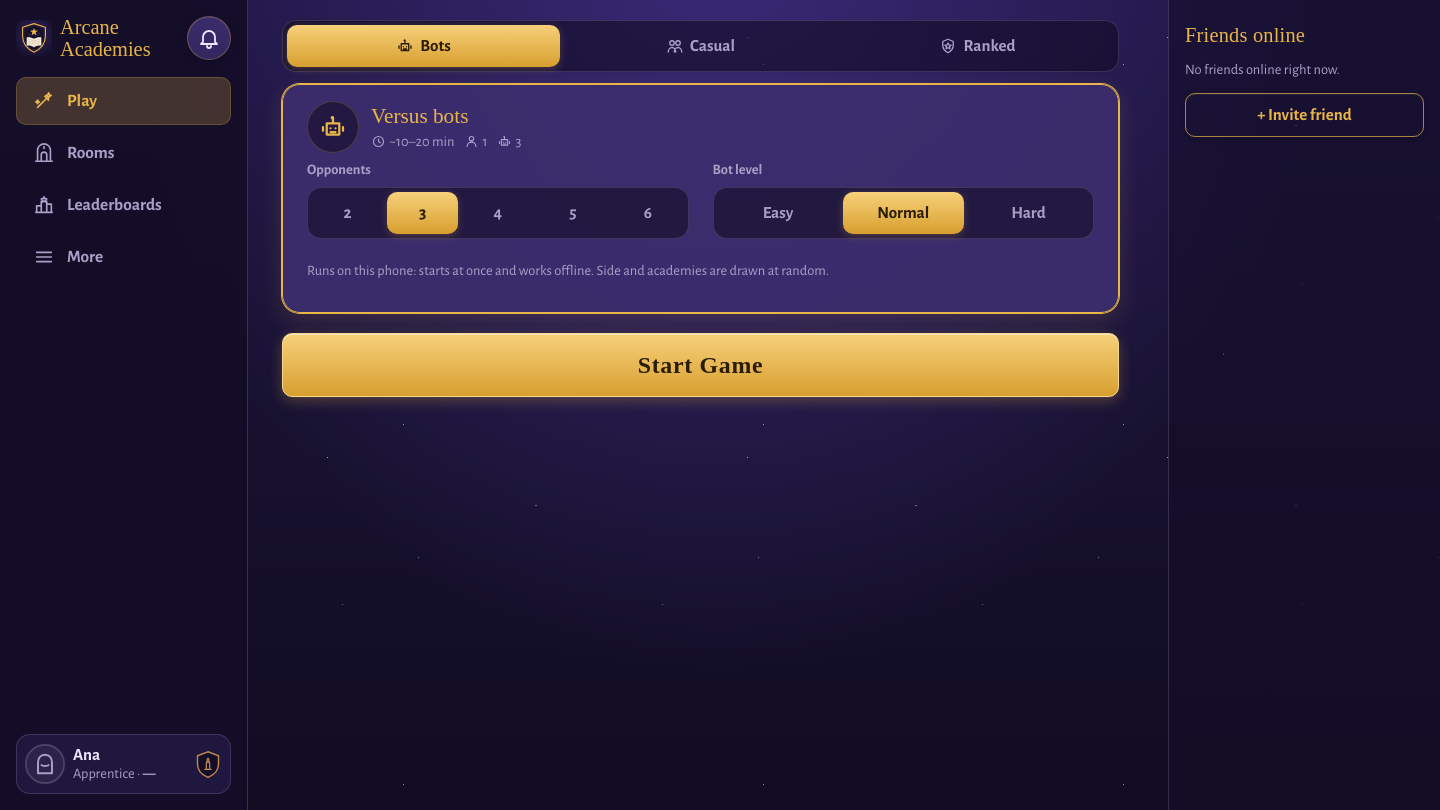
Test case: Feedback in More › shows a friendly message when the player sent too much
Click the button "More" at (124, 257), box [16,233,231,281]
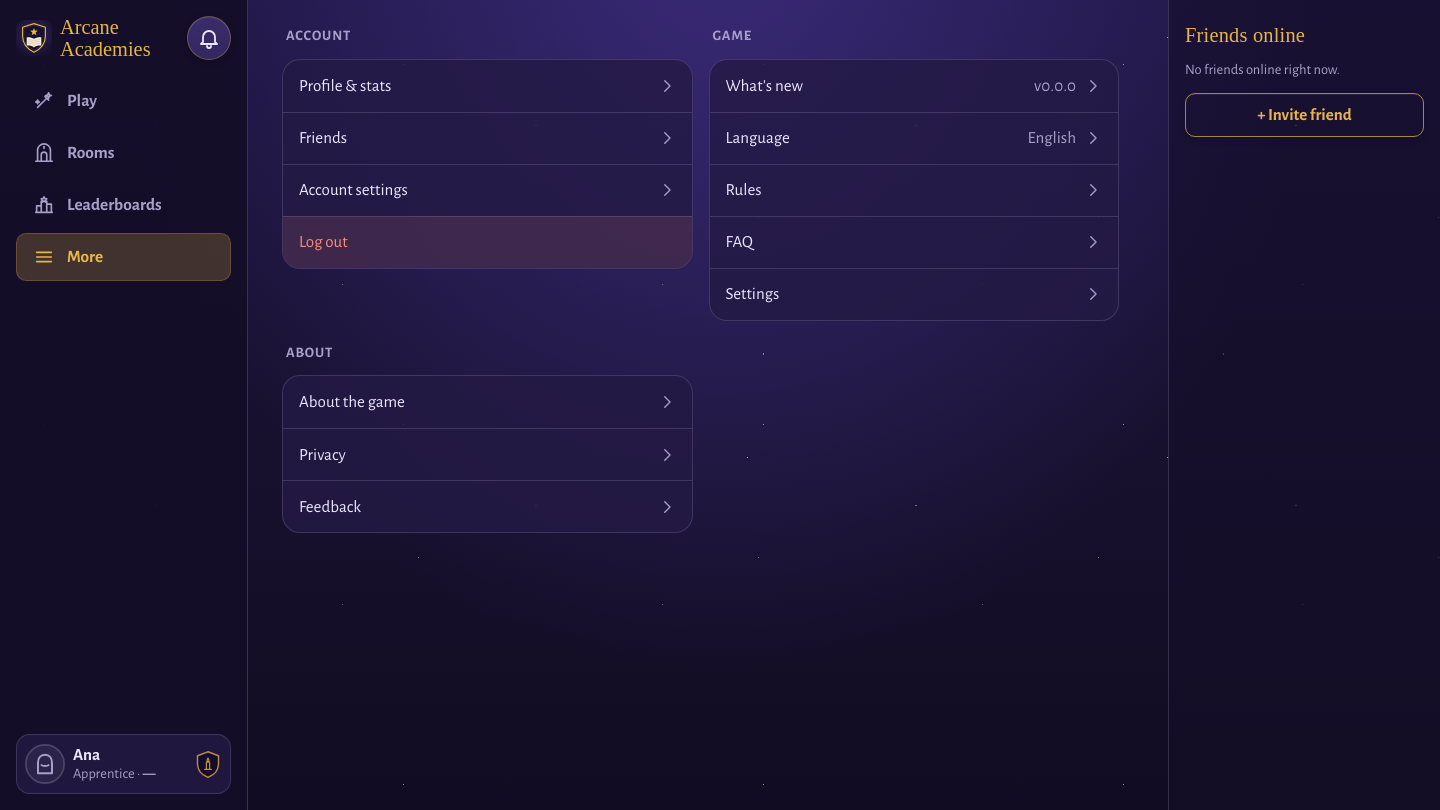
Click the button "Feedback" at (330, 506), box [283,480,692,532]
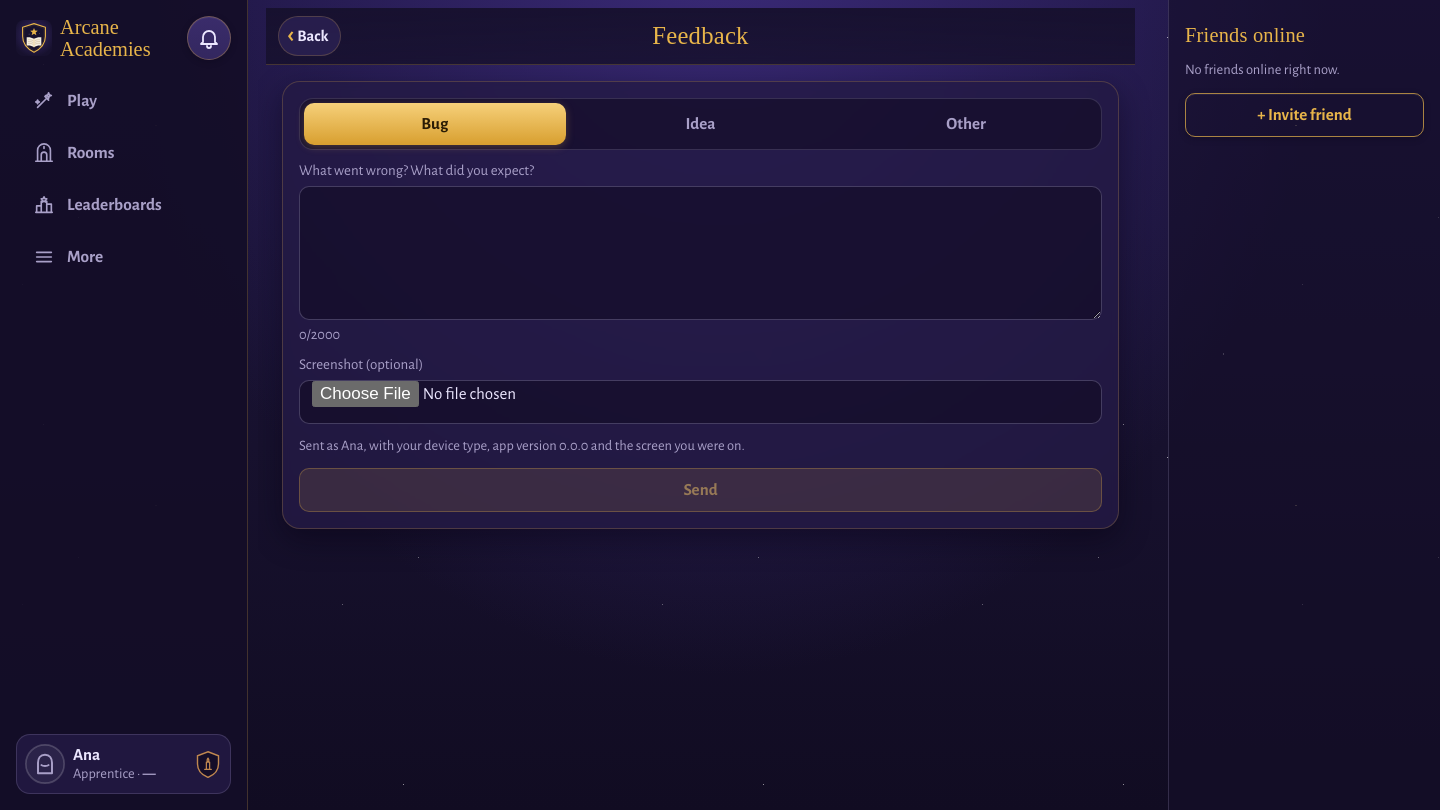
Type "Hi" into the text box named "Message" at (700, 253), box [299,186,1102,320]
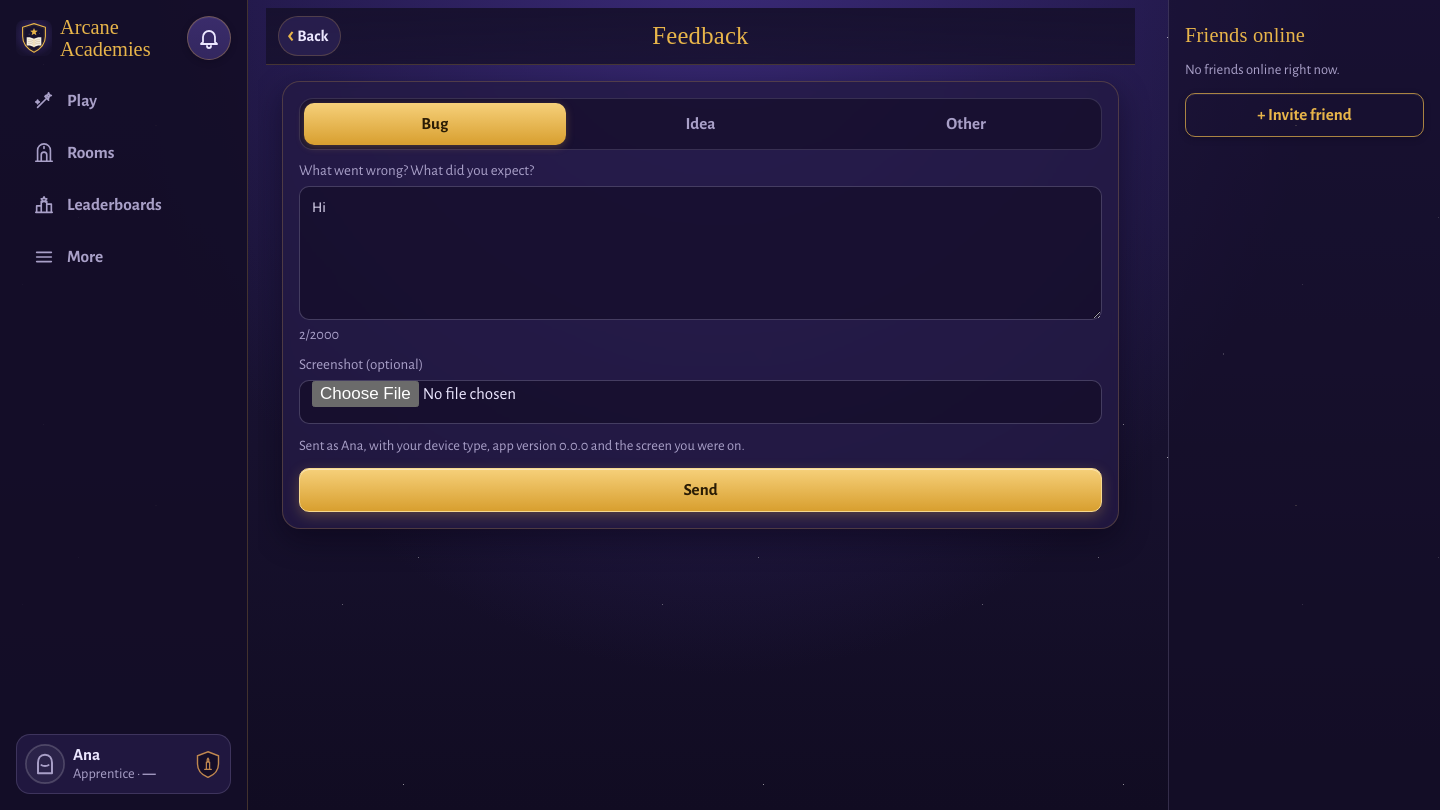
Click the button "Send" at (700, 490), box [299,468,1102,512]
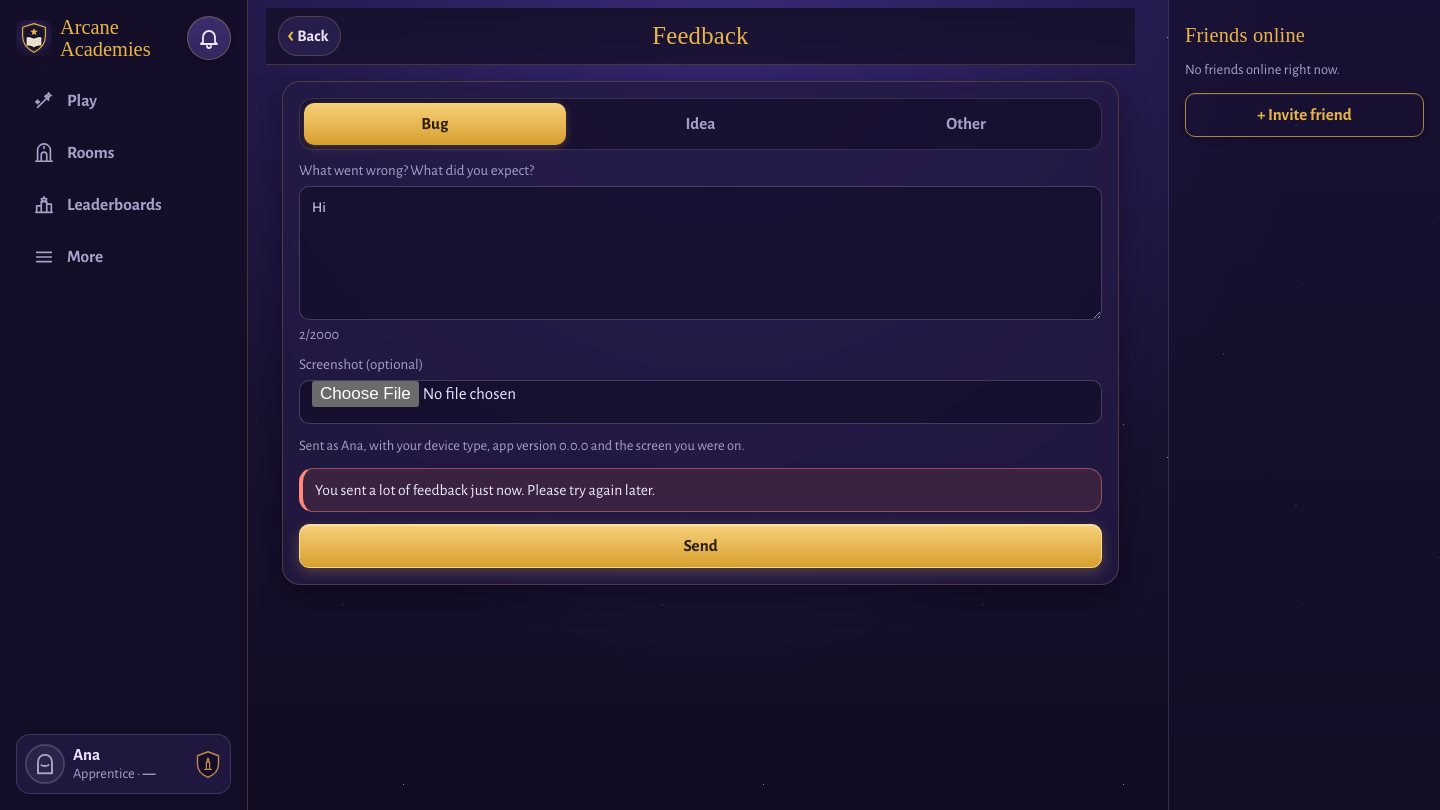
Now the text "You sent a lot of feedback just now. Please try again later." is shown, box [299,468,1102,512]
